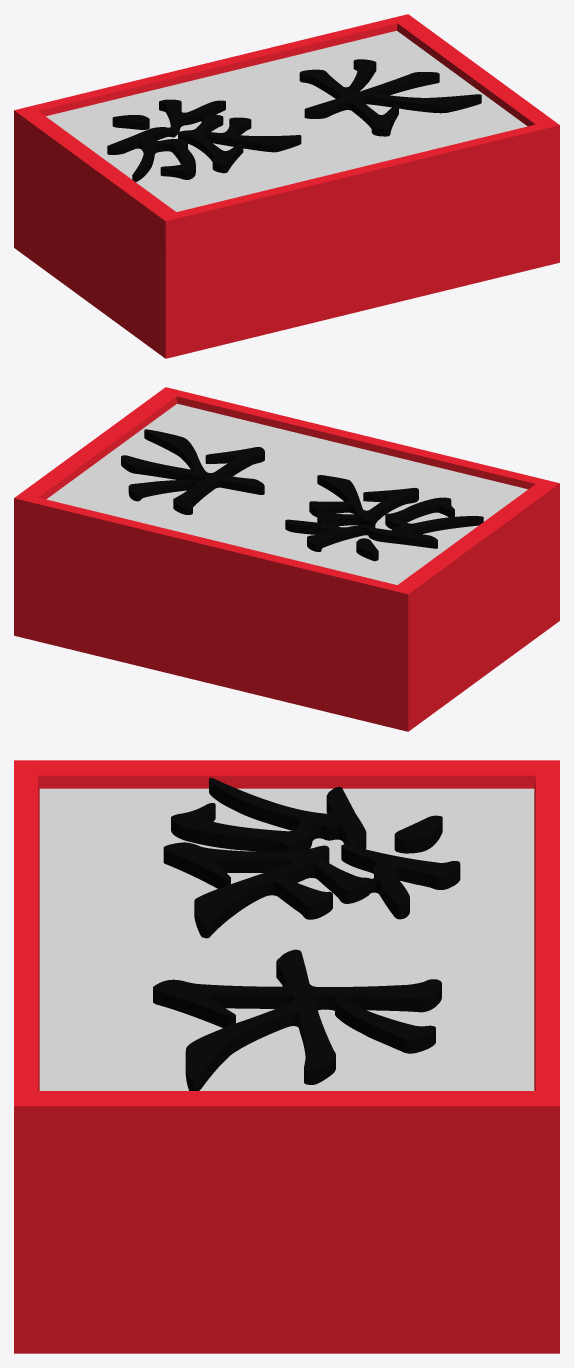
File: 4_lv_zhang.fbx
3 renders of one model, top to bottom at view 1: azimuth 30°, elevation 25°; view 2: azimuth 150°, elevation 25°; view 3: azimuth 270°, elevation 25°, orthographic. The views are drawn at different scales.
Visible parts, largest first — view 1: Cube, 文本; view 2: Cube, 文本; view 3: Cube, 文本.
Boxes of the visible parts, x1,y1,x2,y2 form: Cube: [14, 14, 559, 358]; 文本: [107, 59, 481, 181]; Cube: [14, 387, 559, 731]; 文本: [121, 429, 483, 561]; Cube: [14, 760, 559, 1353]; 文本: [153, 777, 460, 1090].
Size of the model in its own units: 240 by 80.47 by 160.
